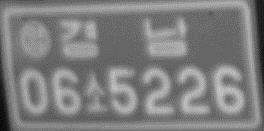0: (18, 65, 49, 115)
2: (176, 64, 211, 118), (138, 66, 175, 115)
5: (108, 63, 139, 118)
6: (211, 63, 246, 115), (49, 66, 83, 117)
경남_D: (57, 13, 190, 60)
소: (84, 68, 110, 115)
영: (18, 17, 53, 61)
